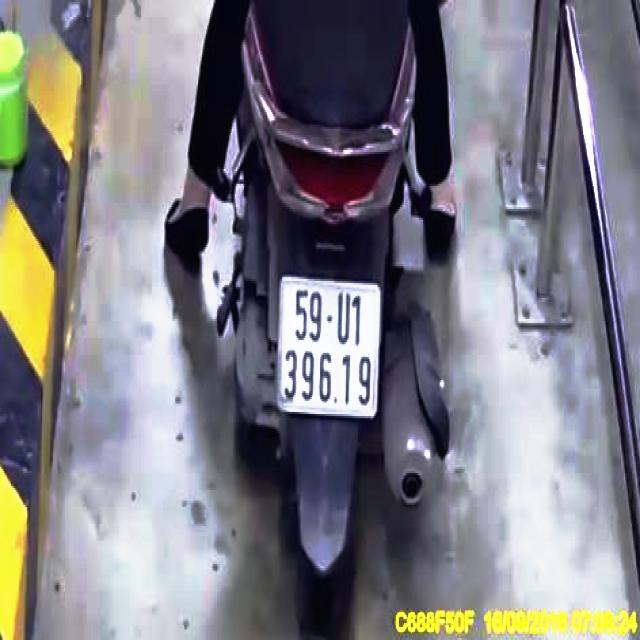license_plate: (282, 284, 377, 415)
